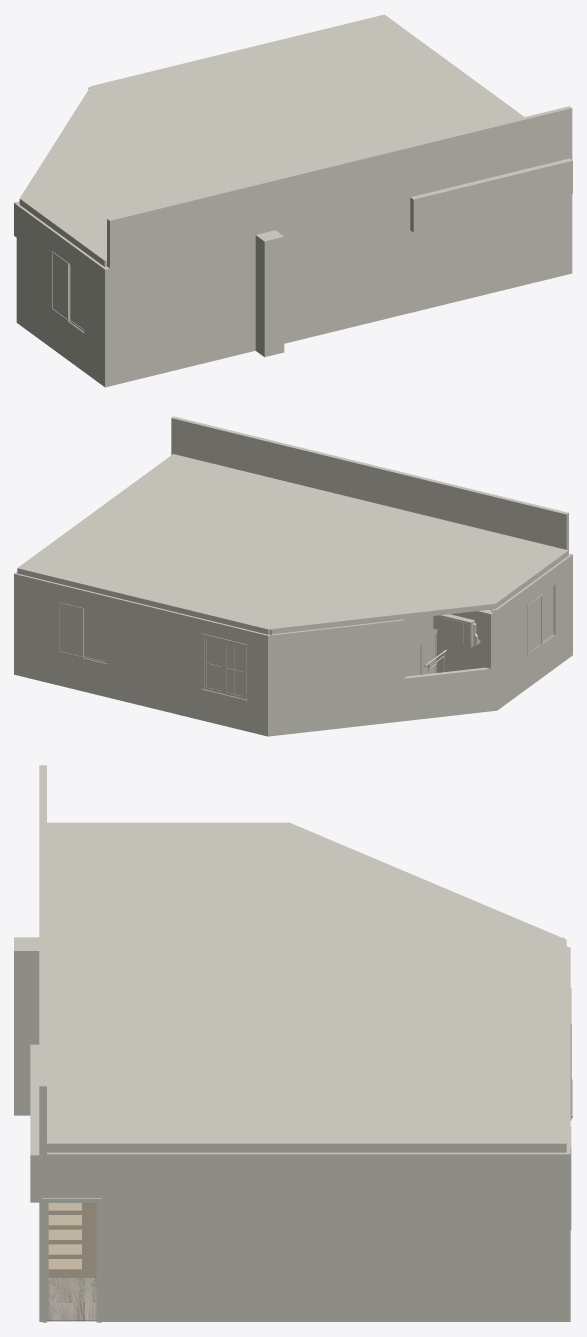
3 renders of one model, top to bottom at view 1: azimuth 30°, elevation 25°; view 2: azimuth 150°, elevation 25°; view 3: azimuth 270°, elevation 25°, orthographic. The views are drawn at different scales.
Parts seen in each view (by area): view 1: 基本牆 外牆_120mm [364696], 樓板 通用 150mm [364614], 基本牆 外牆_120mm [364695], M_混凝土-矩形樑 400 x 800mm [554333], M_混凝土-矩形-柱 500 x 700mm [563455], 双扇推拉窗 TLC1515 [486156], M_混凝土-矩形樑 400 x 800mm [555657]; view 2: 樓板 通用 150mm [364614], 基本牆 外牆_120mm [364694], 基本牆 外牆_120mm [364696], 基本牆 外牆_120mm [507038], 基本牆 外牆_120mm [364695], 基本牆 外牆_120mm [506730], 双扇推拉窗 TLC1515 [523025], M_窗-推開窗-雙扇 1200 x 1500mm [487689], 双扇推拉窗 TLC1515 [486156], Enscape AssetDefinition - 空调 004 Enscape AssetDefin_5d50cb3, 基本牆 135mm 室內隔板 (2 小時) [371425], 推拉窗-双扇推拉窗e 推拉窗-双扇推拉窗e [508283] (+5 smaller); view 3: 樓板 通用 150mm [364614], 基本牆 外牆_120mm [364697], M_混凝土-矩形-柱 500 x 700mm [563455], 基本牆 外牆_120mm [364696], 門口客廳鞋櫃 門口客廳鞋櫃 [395936], M_混凝土-矩形樑 400 x 800mm [555657], 樓板 室內地板_SK-7038 [364770], M_單個嵌平 0762 x 2032mm [417210], M_混凝土-矩形樑 400 x 800mm [554333], 基本牆 外牆_120mm [364694].
Boxes of the visible parts, x1=… form: 基本牆 外牆_120mm [364696]: x1=107, y1=106, x2=572, y2=386; 樓板 通用 150mm [364614]: x1=19, y1=14, x2=523, y2=266; 基本牆 外牆_120mm [364695]: x1=16, y1=202, x2=109, y2=387; M_混凝土-矩形樑 400 x 800mm [554333]: x1=410, y1=158, x2=572, y2=232; M_混凝土-矩形-柱 500 x 700mm [563455]: x1=255, y1=230, x2=284, y2=357; 双扇推拉窗 TLC1515 [486156]: x1=51, y1=249, x2=85, y2=335; M_混凝土-矩形樑 400 x 800mm [555657]: x1=178, y1=160, x2=231, y2=192; 樓板 通用 150mm [364614]: x1=17, y1=454, x2=568, y2=634; 基本牆 外牆_120mm [364694]: x1=18, y1=574, x2=274, y2=736; 基本牆 外牆_120mm [364696]: x1=171, y1=416, x2=568, y2=553; 基本牆 外牆_120mm [507038]: x1=272, y1=619, x2=406, y2=735; 基本牆 外牆_120mm [364695]: x1=491, y1=553, x2=572, y2=711; 基本牆 外牆_120mm [506730]: x1=401, y1=667, x2=490, y2=721; 双扇推拉窗 TLC1515 [523025]: x1=57, y1=600, x2=107, y2=665; M_窗-推開窗-雙扇 1200 x 1500mm [487689]: x1=204, y1=636, x2=244, y2=699; 双扇推拉窗 TLC1515 [486156]: x1=526, y1=583, x2=555, y2=656; Enscape AssetDefinition - 空调 004 Enscape AssetDefin_5d50cb3: x1=441, y1=614, x2=480, y2=647; 基本牆 135mm 室內隔板 (2 小時) [371425]: x1=436, y1=609, x2=491, y2=672; 推拉窗-双扇推拉窗e 推拉窗-双扇推拉窗e [508283]: x1=408, y1=633, x2=436, y2=676; 樓板 通用 150mm [364614]: x1=47, y1=822, x2=566, y2=1152; 基本牆 外牆_120mm [364697]: x1=47, y1=1151, x2=570, y2=1321; M_混凝土-矩形-柱 500 x 700mm [563455]: x1=14, y1=937, x2=39, y2=1115; 基本牆 外牆_120mm [364696]: x1=39, y1=765, x2=46, y2=1321; 門口客廳鞋櫃 門口客廳鞋櫃 [395936]: x1=48, y1=1203, x2=96, y2=1277; M_混凝土-矩形樑 400 x 800mm [555657]: x1=47, y1=929, x2=279, y2=940; 樓板 室內地板_SK-7038 [364770]: x1=47, y1=1278, x2=96, y2=1321; M_單個嵌平 0762 x 2032mm [417210]: x1=42, y1=1198, x2=101, y2=1322; M_混凝土-矩形樑 400 x 800mm [554333]: x1=30, y1=1044, x2=39, y2=1202; 基本牆 外牆_120mm [364694]: x1=566, y1=946, x2=570, y2=1150.
Size of the model in its own units: 11.86 by 4.03 by 8.61.
6 materials, 1 textured.
